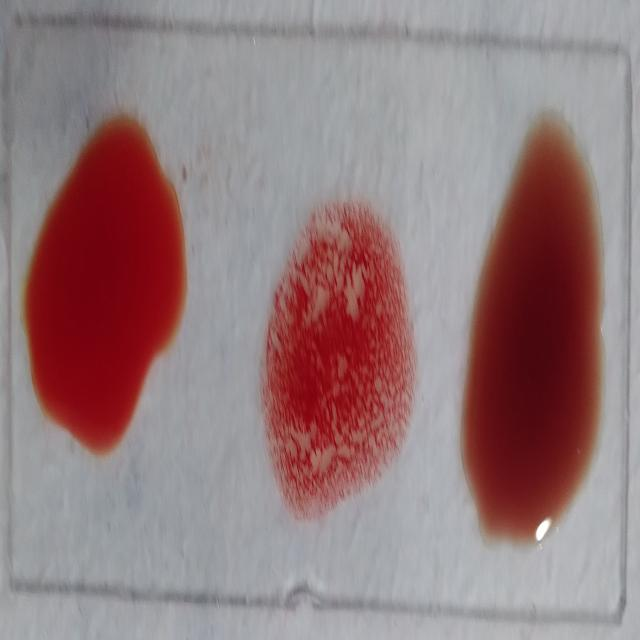D: (265, 198, 412, 510)
